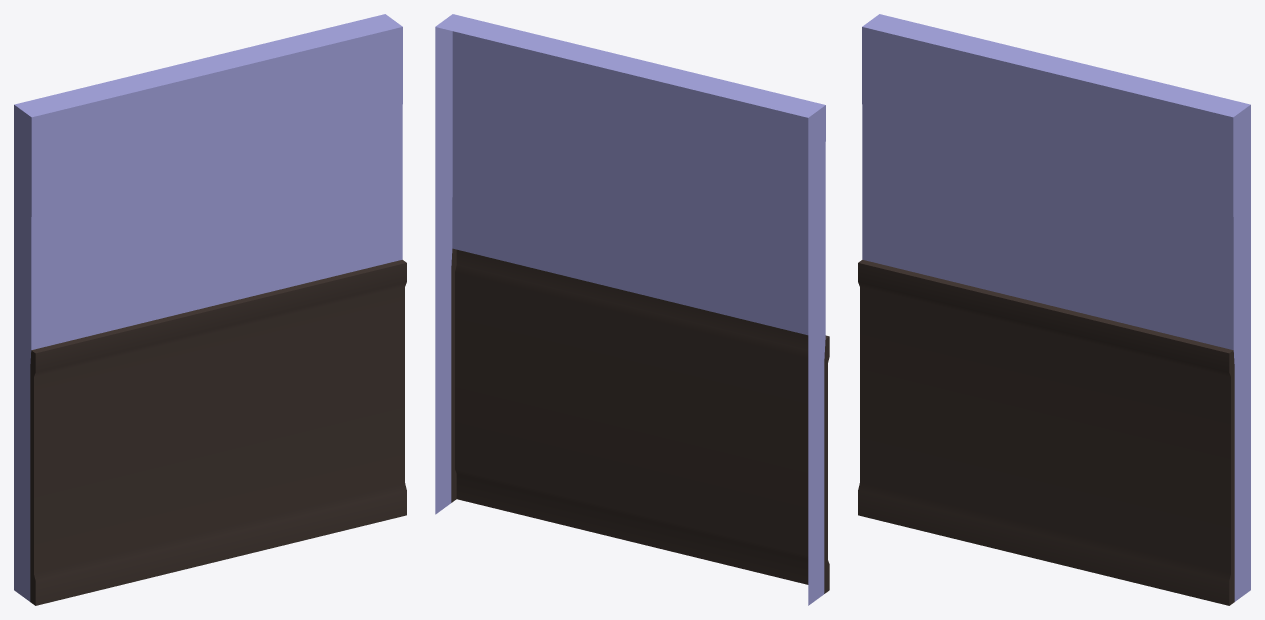
File: Wall.fbx
3 renders of one model, left to right at view 1: azimuth 30°, elevation 25°; view 2: azimuth 150°, elevation 25°; view 3: azimuth 330°, elevation 25°, orthographic.
Visible parts, largest first — view 1: pCube1; view 2: pCube1; view 3: pCube1.
Part boxes in pixels (x1=…): pCube1: x1=14, y1=14, x2=406, y2=605; pCube1: x1=435, y1=14, x2=829, y2=605; pCube1: x1=858, y1=14, x2=1250, y2=605.
Size of the model in its own units: 100 by 125 by 10.
